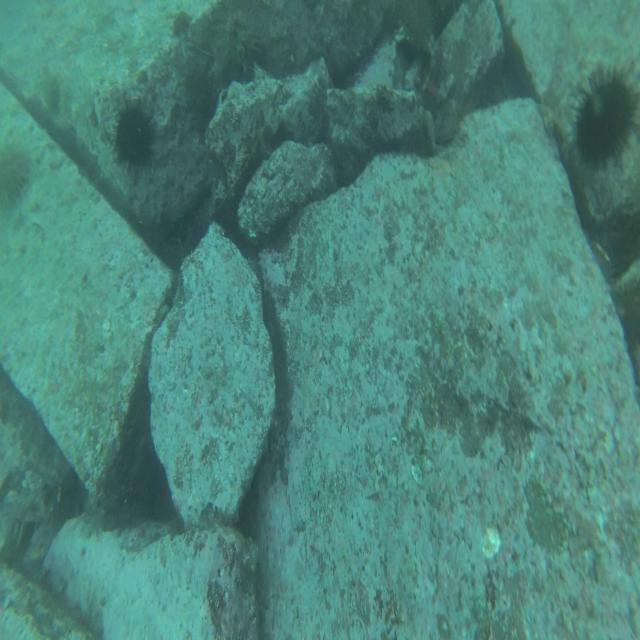echinus: (567, 63, 637, 163), (106, 97, 160, 164), (1, 144, 27, 204)
